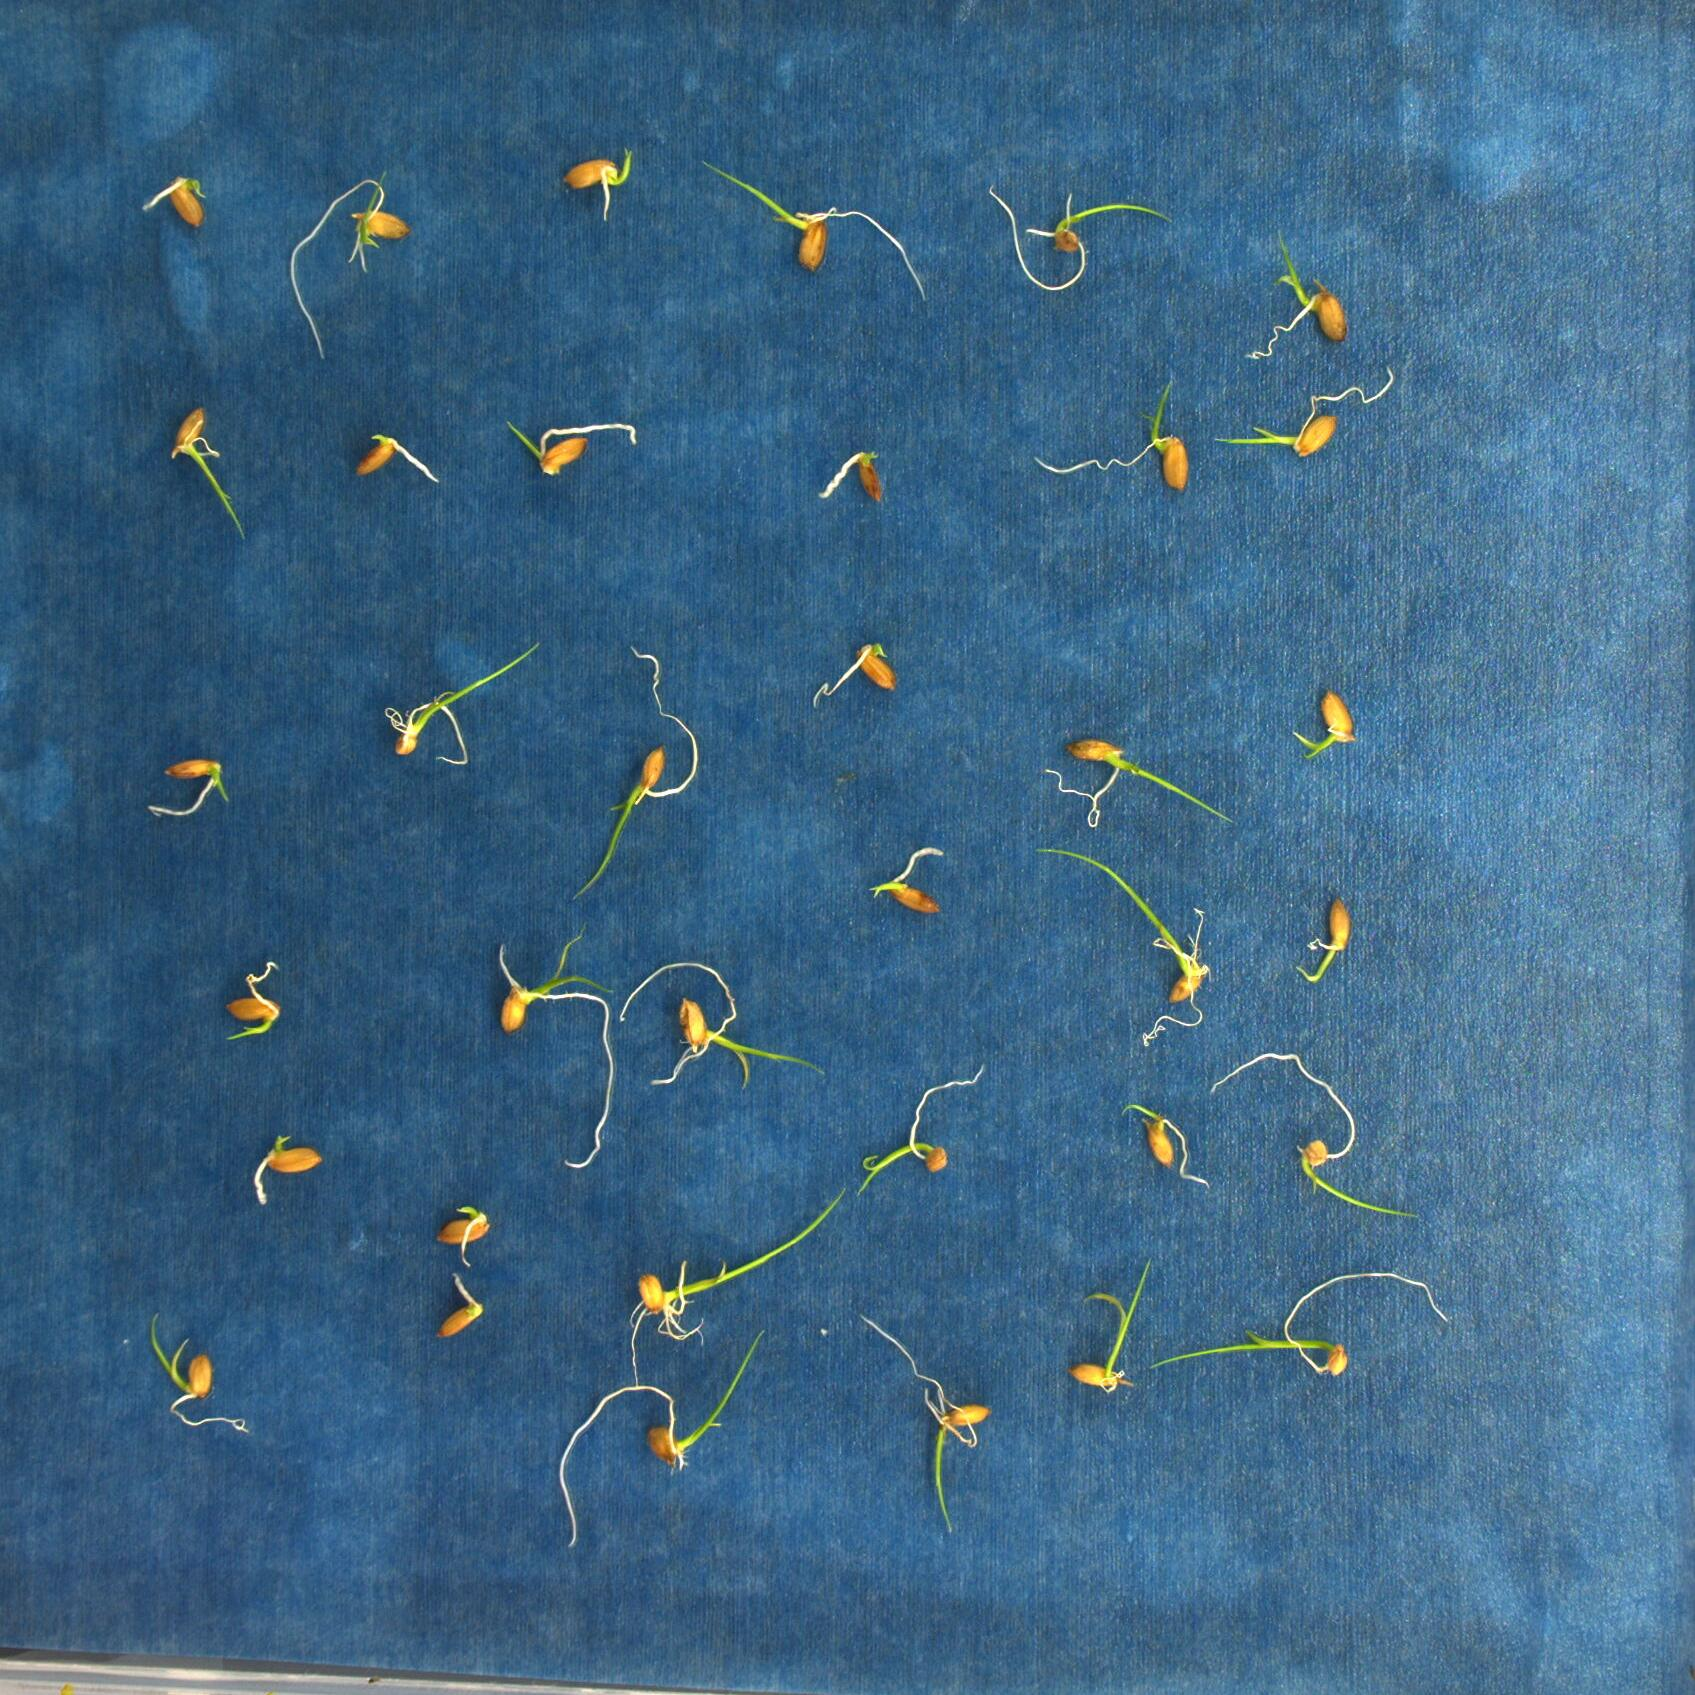not sprout: (809, 640, 897, 711), (253, 1132, 323, 1208), (355, 432, 438, 484), (143, 171, 206, 228), (820, 449, 885, 504), (439, 1274, 484, 1341)
sprout: (556, 1324, 771, 1552), (629, 1189, 847, 1388), (1209, 1049, 1420, 1222), (1035, 844, 1212, 1049), (700, 157, 928, 303), (573, 644, 698, 899), (1149, 1271, 1450, 1377), (492, 920, 616, 1169), (861, 1312, 993, 1534), (621, 959, 829, 1091), (289, 171, 413, 360), (987, 182, 1175, 293), (1029, 366, 1192, 490), (383, 640, 542, 767), (1045, 737, 1240, 827), (857, 1065, 989, 1197), (1215, 366, 1395, 459), (1246, 227, 1350, 360), (149, 1312, 251, 1437), (1069, 1256, 1152, 1395), (169, 405, 245, 543), (508, 419, 636, 477), (1122, 1105, 1209, 1187), (560, 144, 636, 224), (869, 847, 948, 919), (1296, 896, 1355, 986), (144, 757, 228, 820), (1291, 688, 1357, 761), (225, 959, 282, 1042), (435, 1205, 489, 1265)
